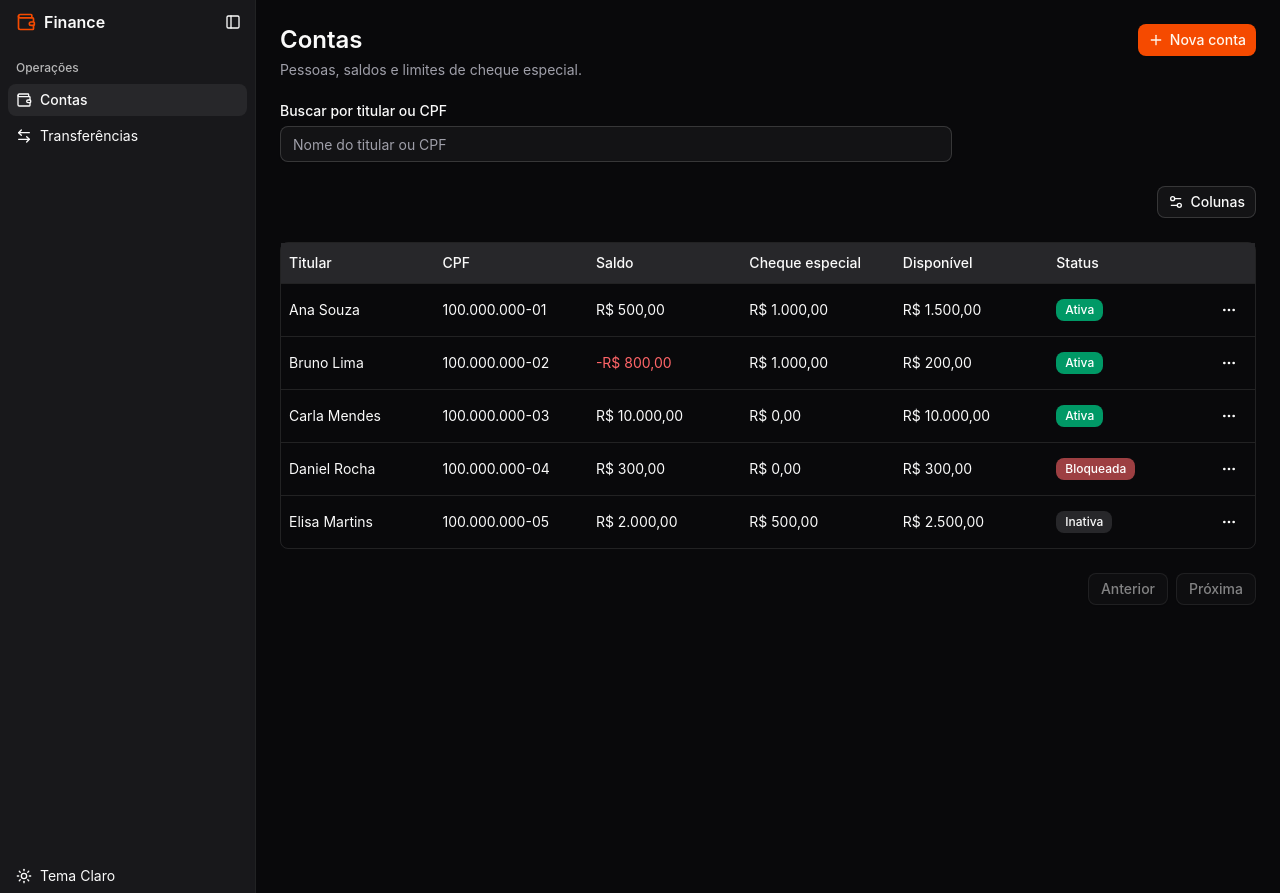
Scenario: Accounts page › opens the account details from the actions menu
This screenshot has width=1280, height=893.
Click the button named "Ações de Ana Souza": (1229, 310) [1211,292,1247,328]
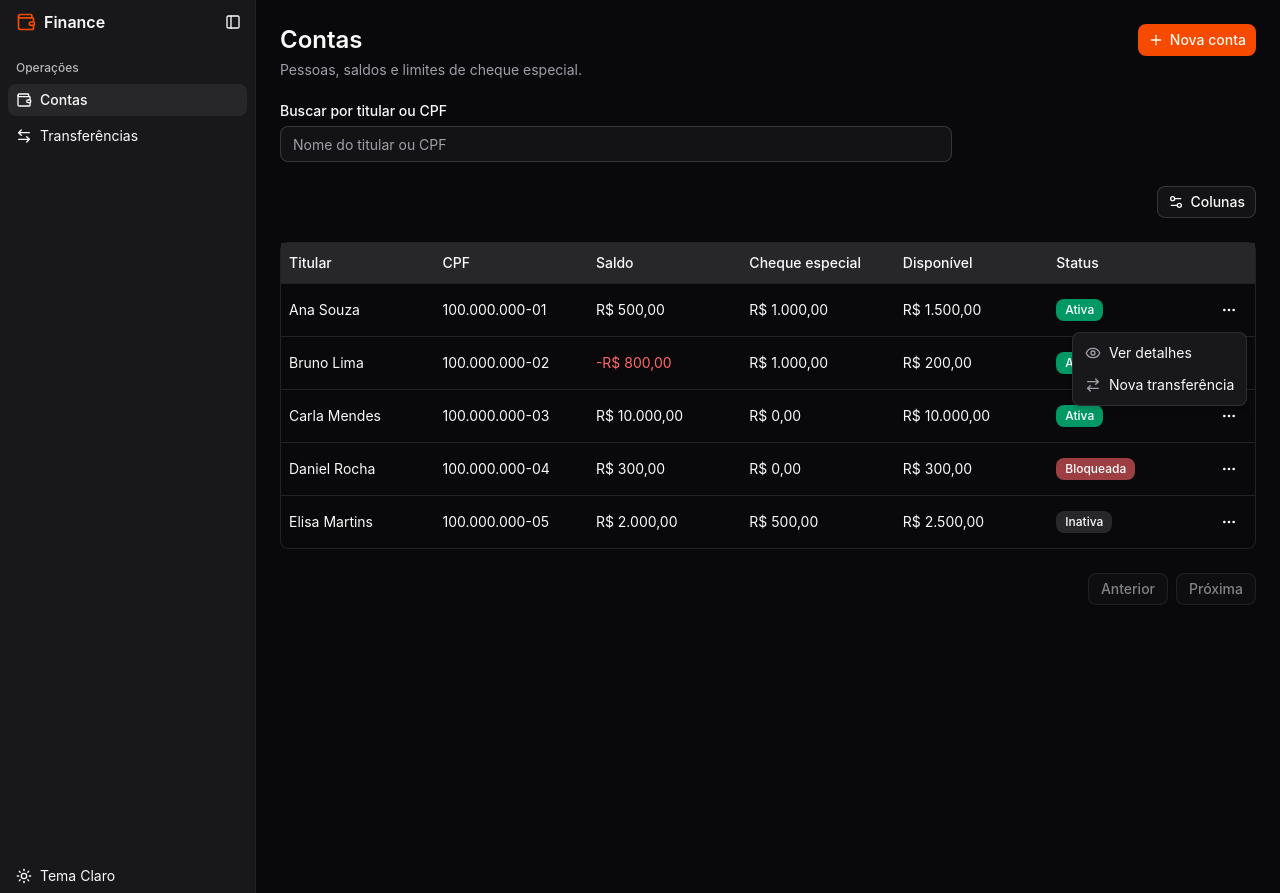
Click the menu item "Ver detalhes": (1138, 352) [1085,344,1192,361]
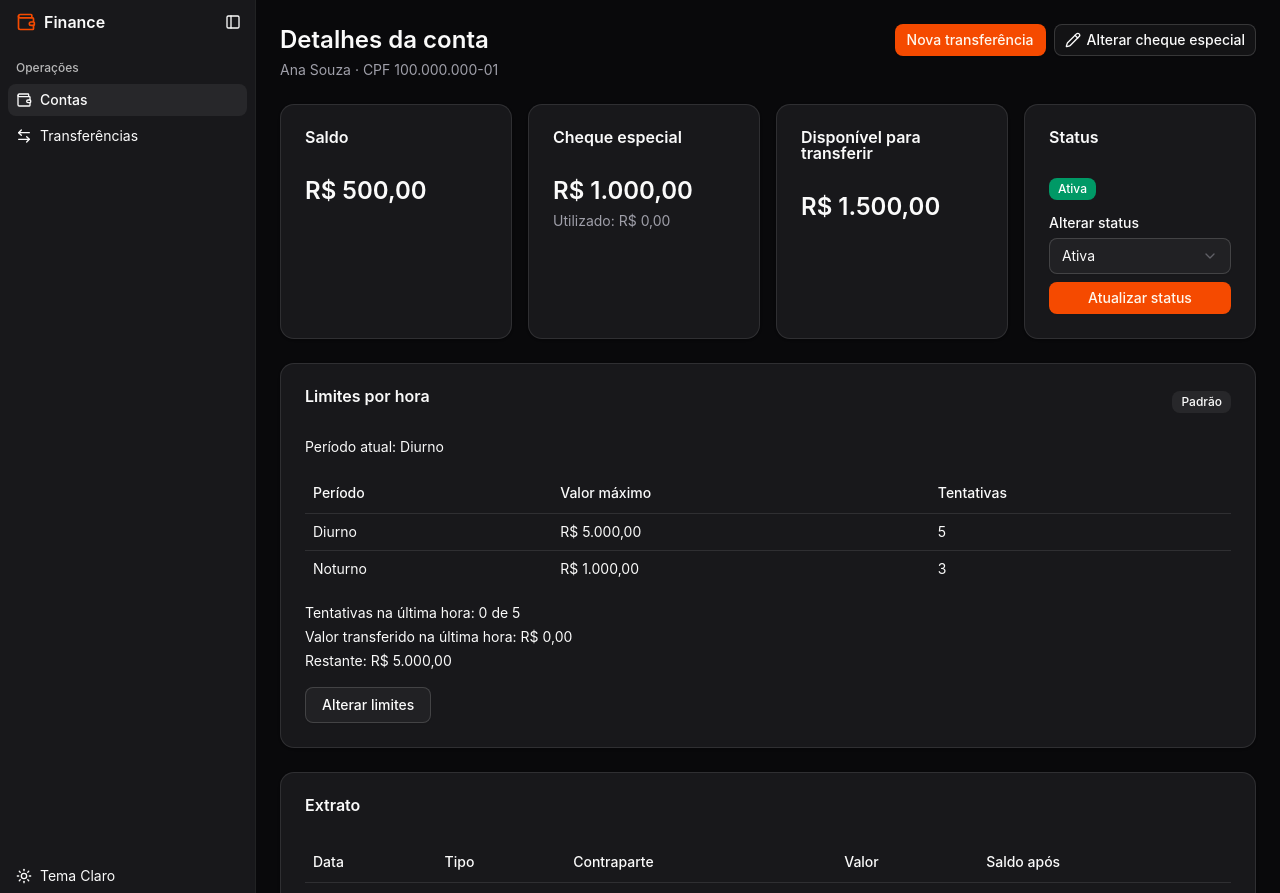
expect the heading "Detalhes da conta" is shown: met, box [280,24,498,56]
expect the text "Ana Souza · CPF 100.000.000-01" is shown: met, box [280,60,498,80]
